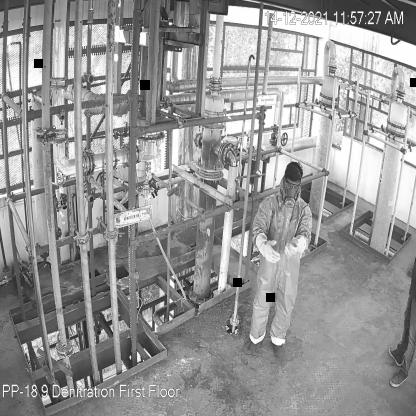goggles: (284, 179, 300, 189)
mask: (282, 186, 297, 208)
